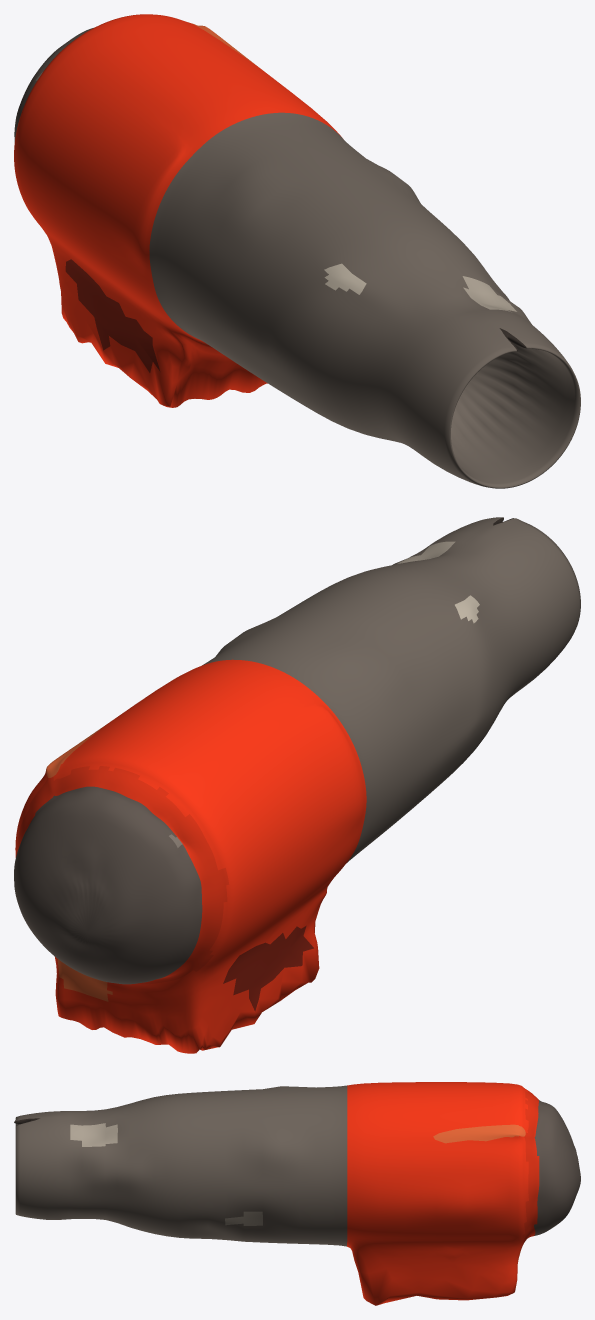
The model's file is MeteorHead.fbx.
The picture shows the model from 3 angles, top to bottom: view 1: azimuth 30°, elevation 25°; view 2: azimuth 150°, elevation 25°; view 3: azimuth 270°, elevation 25°; orthographic projection. The views are drawn at different scales.
Parts seen in each view (by area): view 1: ShooterHead; view 2: ShooterHead; view 3: ShooterHead.
Boxes of the visible parts, box(x1,y1,x2,y2) form: ShooterHead: box(14, 14, 580, 488); ShooterHead: box(14, 517, 580, 1053); ShooterHead: box(14, 1082, 580, 1305).
Size of the model in its own units: 2.02 by 6.68 by 2.51.
